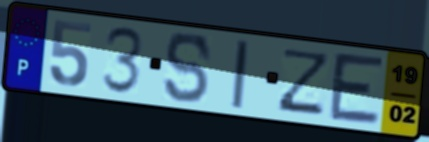3: (101, 25, 146, 96)
5: (47, 17, 94, 89)
E: (326, 50, 387, 128)
I: (229, 38, 252, 111)
S: (163, 30, 214, 105)
Z: (274, 46, 334, 117)
